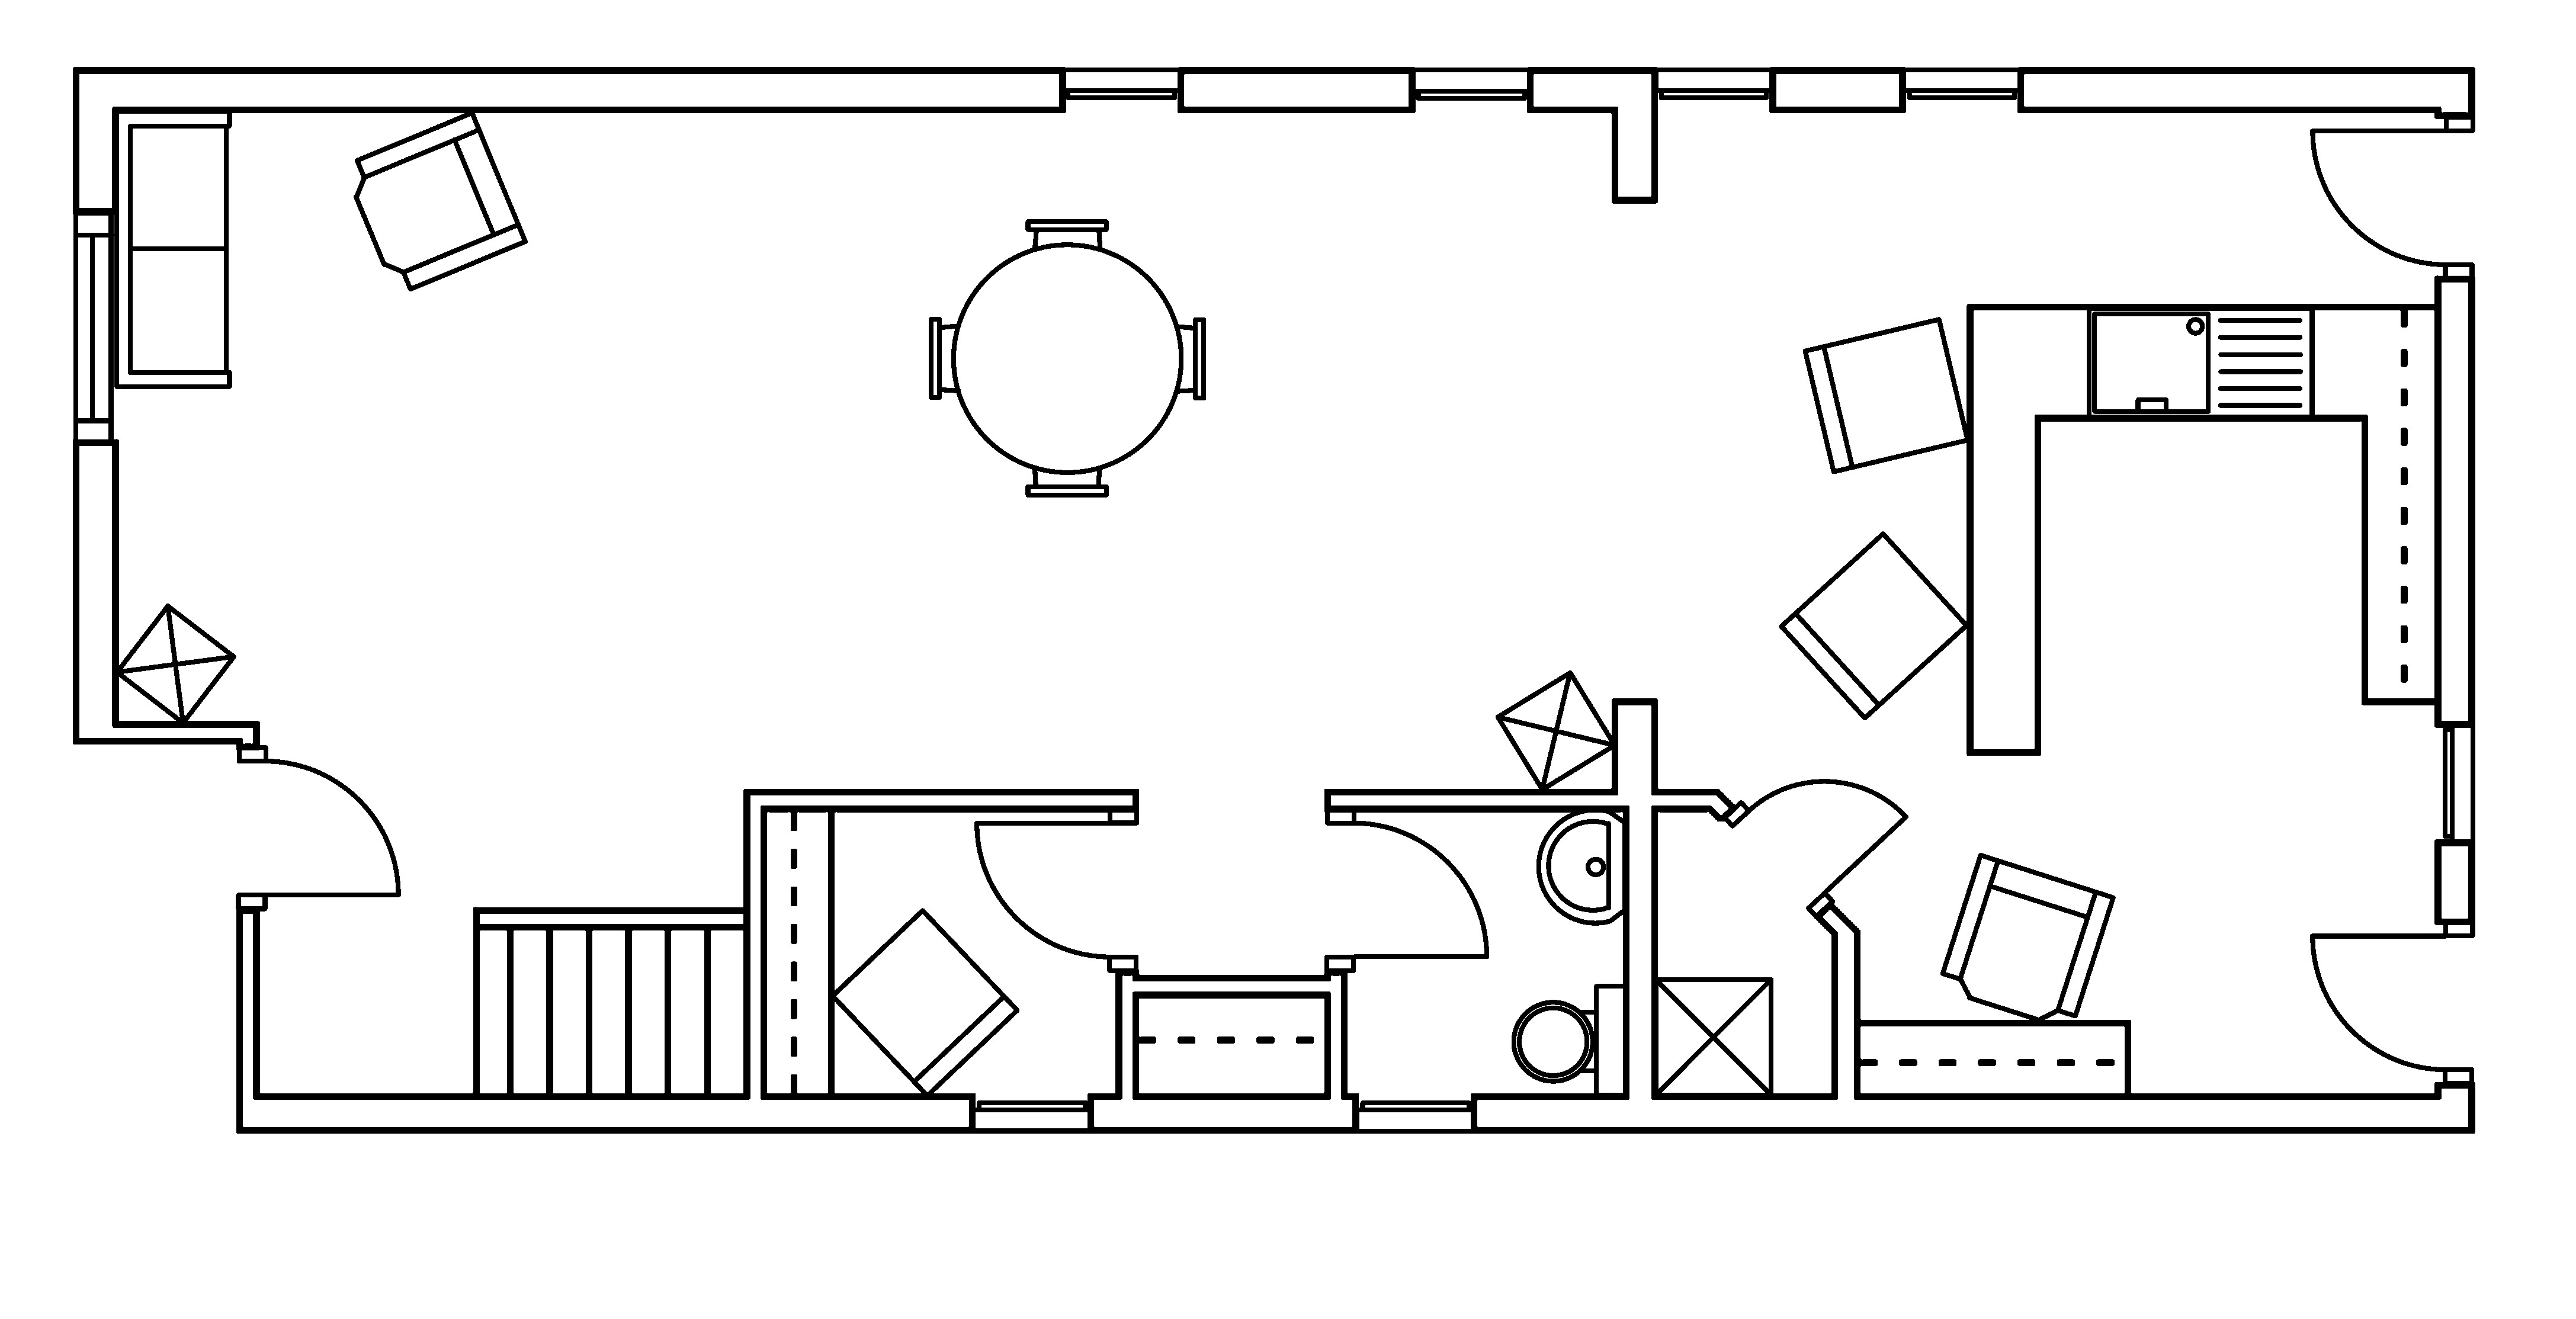armchair: (353, 109, 528, 291), (1939, 851, 2115, 1023)
coffee_table: (1493, 670, 1618, 792), (113, 602, 237, 725), (1651, 976, 1774, 1097)
large_sink: (1512, 983, 1628, 1097)
large_sofa: (113, 108, 232, 389)
round_table: (928, 219, 1206, 498)
sink: (2085, 305, 2314, 421)
small_sink: (1535, 808, 1628, 925)
small_sofa: (829, 907, 1021, 1099), (1777, 530, 1969, 720), (1801, 316, 1971, 474)
